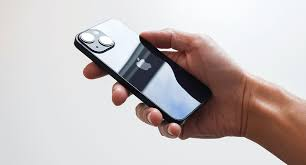-iphone13: (66, 16, 218, 132)
